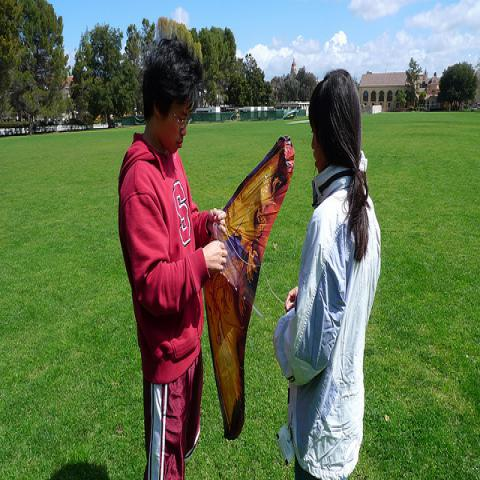bus: (221, 106, 239, 112)
